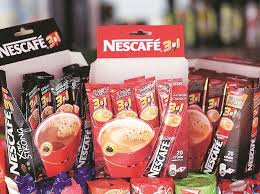nescafe-caffe: (207, 83, 249, 172), (148, 89, 189, 177), (110, 80, 138, 123), (87, 83, 109, 125), (22, 76, 40, 127), (138, 78, 156, 123), (69, 76, 84, 120), (39, 76, 53, 123), (53, 78, 69, 104)
